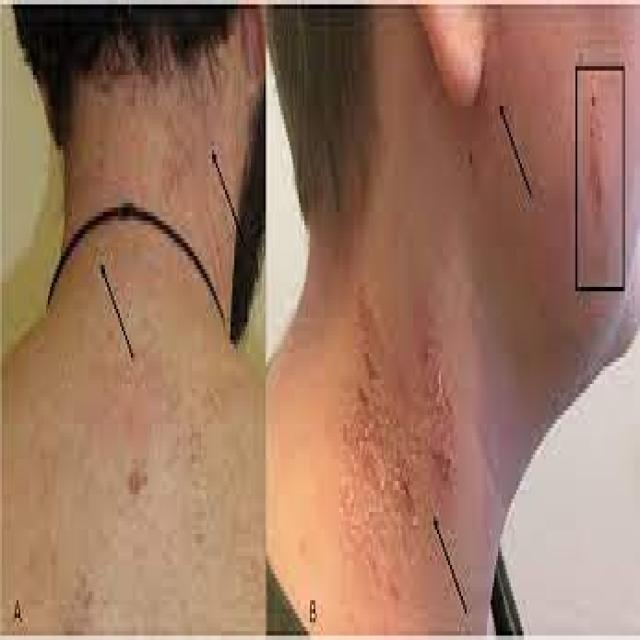Acanthosis Nigricans: (337, 266, 469, 627), (68, 107, 202, 233)
